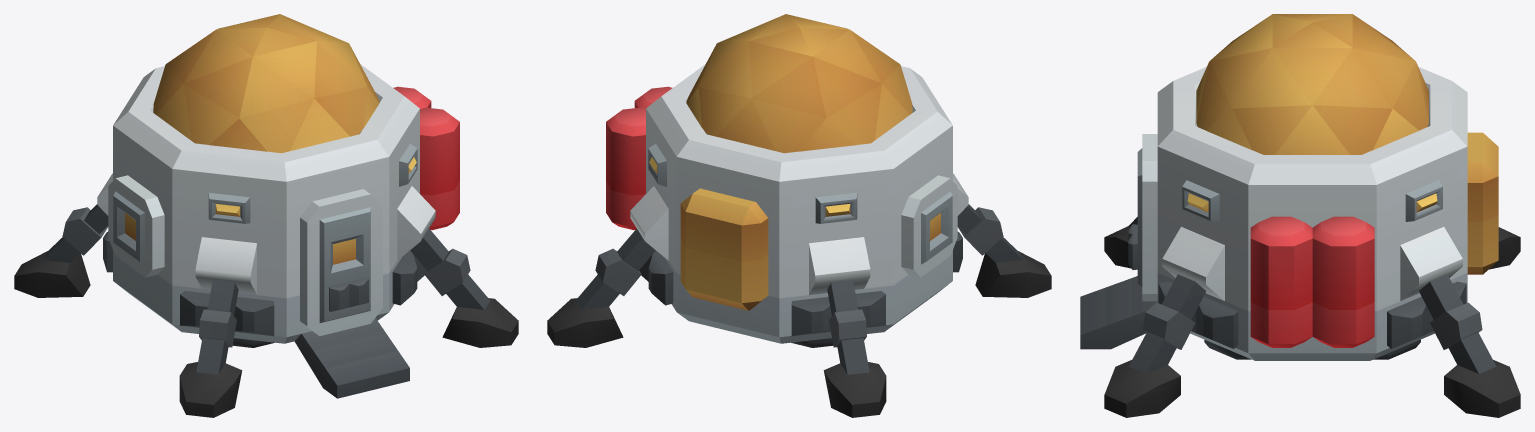
File: lander_b.glb
3 renders of one model, left to right at view 1: azimuth 30°, elevation 25°; view 2: azimuth 150°, elevation 25°; view 3: azimuth 270°, elevation 25°, orthographic. The views are drawn at different scales.
Parts seen in each view (by area): view 1: lander_B; view 2: lander_B; view 3: lander_B.
Part boxes in pixels (x1,y1,x2,y2): lander_B: (14,14,518,417); lander_B: (547,14,1051,417); lander_B: (1080,14,1520,417).
Size of the model in its own units: 1.37 by 1.1 by 1.42.
Materials: 1 (1 with a texture image).
